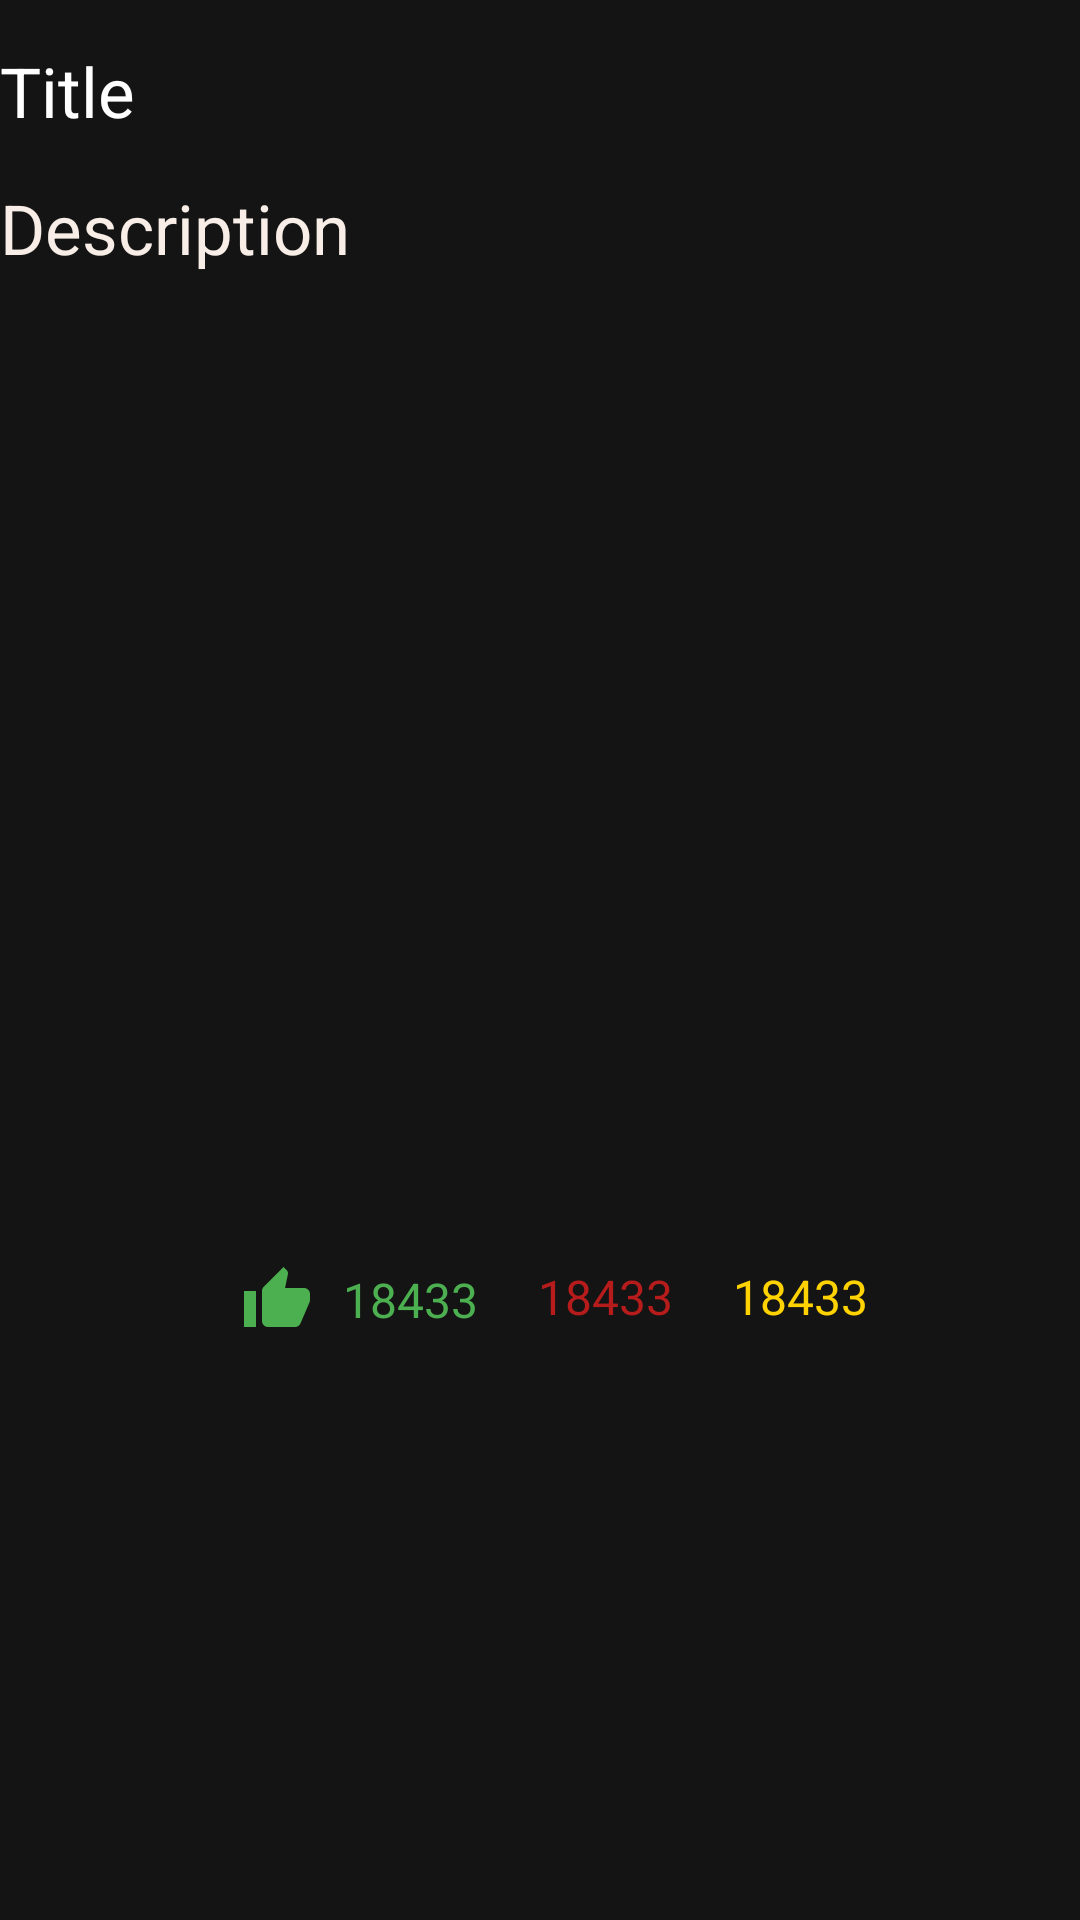

Screen size 1080*1920. Icon name, then its center in pixels as point (x, y):
thumb up: point (277, 1297)
